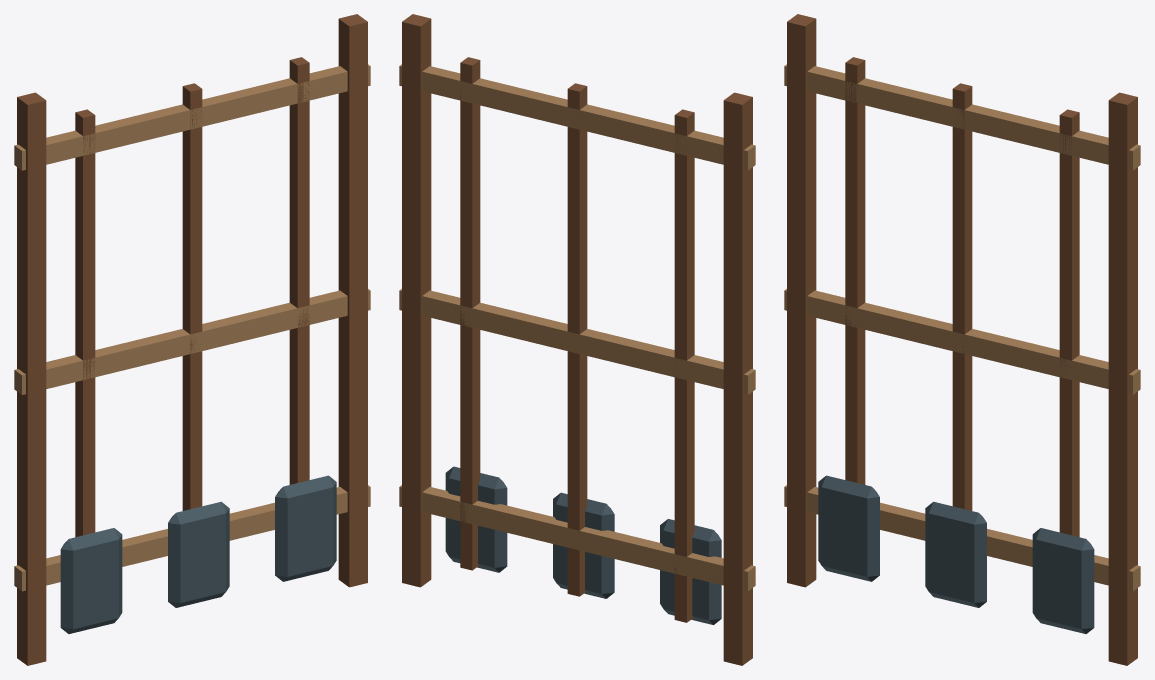
Rendered from shovel_rack.glb.
The picture shows the model from 3 angles, left to right: view 1: azimuth 30°, elevation 25°; view 2: azimuth 150°, elevation 25°; view 3: azimuth 330°, elevation 25°; orthographic projection.
Parts seen in each view (by area): view 1: shovel_rack; view 2: shovel_rack; view 3: shovel_rack.
Boxes of the visible parts, x1,y1,x2,y2 form: shovel_rack: (14, 14, 370, 665); shovel_rack: (399, 14, 755, 665); shovel_rack: (784, 14, 1140, 665).
Size of the model in its own units: 1.3 by 2 by 0.105.
